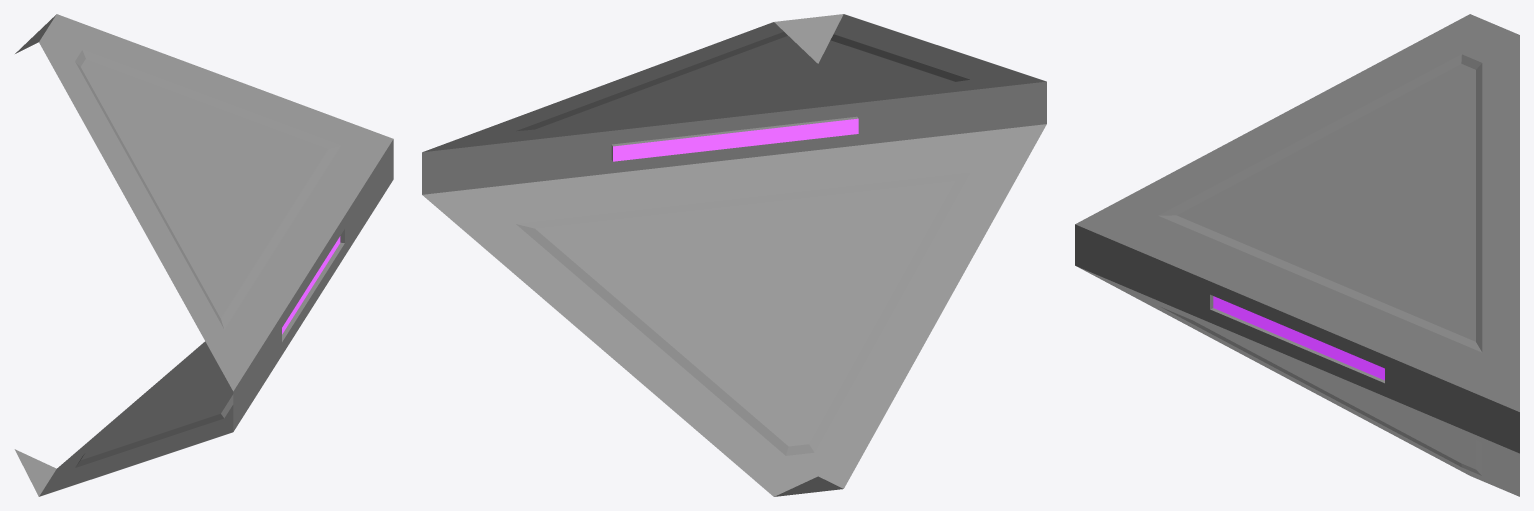
File: SZ_GroundSideCorner.FBX
3 views of the same model, side by side, from view 1: azimuth 30°, elevation 25°; view 2: azimuth 150°, elevation 25°; view 3: azimuth 270°, elevation 25° (orthographic). The views are drawn at different scales.
Parts seen in each view (by area): view 1: SZ_GroundSideCorner; view 2: SZ_GroundSideCorner; view 3: SZ_GroundSideCorner.
Boxes of the visible parts, <box> form: SZ_GroundSideCorner: <box>14,14,393,496</box>; SZ_GroundSideCorner: <box>422,14,1046,496</box>; SZ_GroundSideCorner: <box>1075,14,1519,496</box>.
Size of the model in its own units: 100 by 100 by 115.
